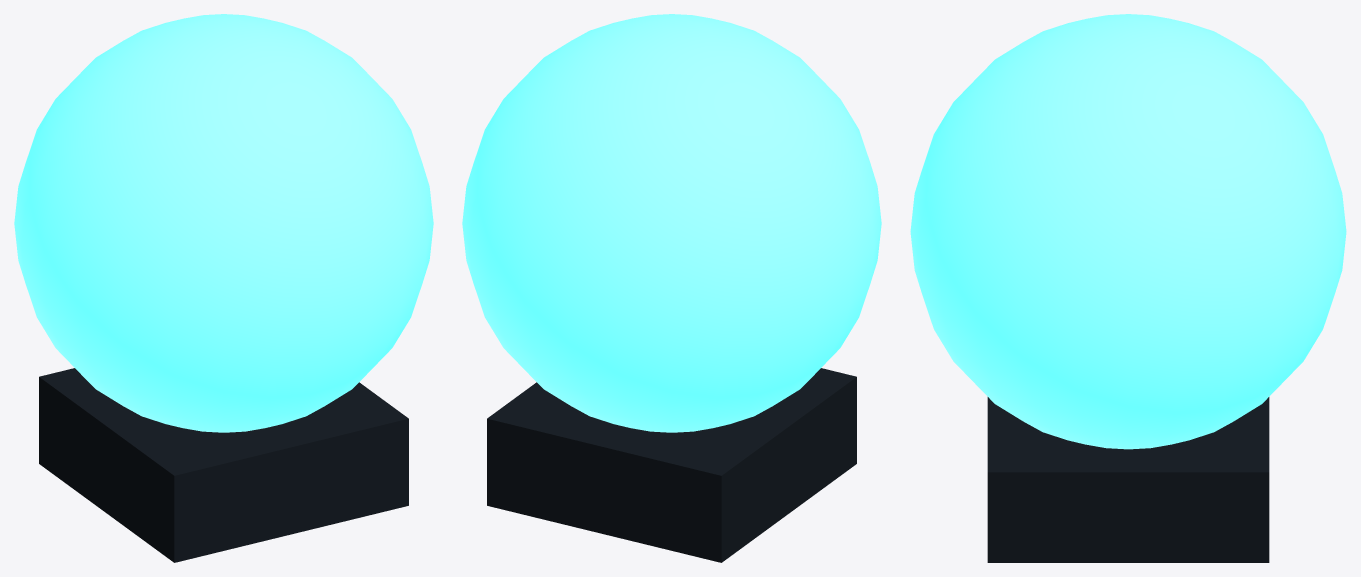
The model's file is emp.glb.
The picture shows the model from 3 angles, left to right: view 1: azimuth 30°, elevation 25°; view 2: azimuth 150°, elevation 25°; view 3: azimuth 270°, elevation 25°; orthographic projection. The views are drawn at different scales.
Parts seen in each view (by area): view 1: emp-weapon; view 2: emp-weapon; view 3: emp-weapon.
Part boxes in pixels (left/top/right/bottom): emp-weapon: left=14, top=14, right=433, bottom=562; emp-weapon: left=462, top=14, right=881, bottom=562; emp-weapon: left=910, top=14, right=1346, bottom=562.
Bounding box in the file's own units: 0.96 × 1.14 × 0.96.
